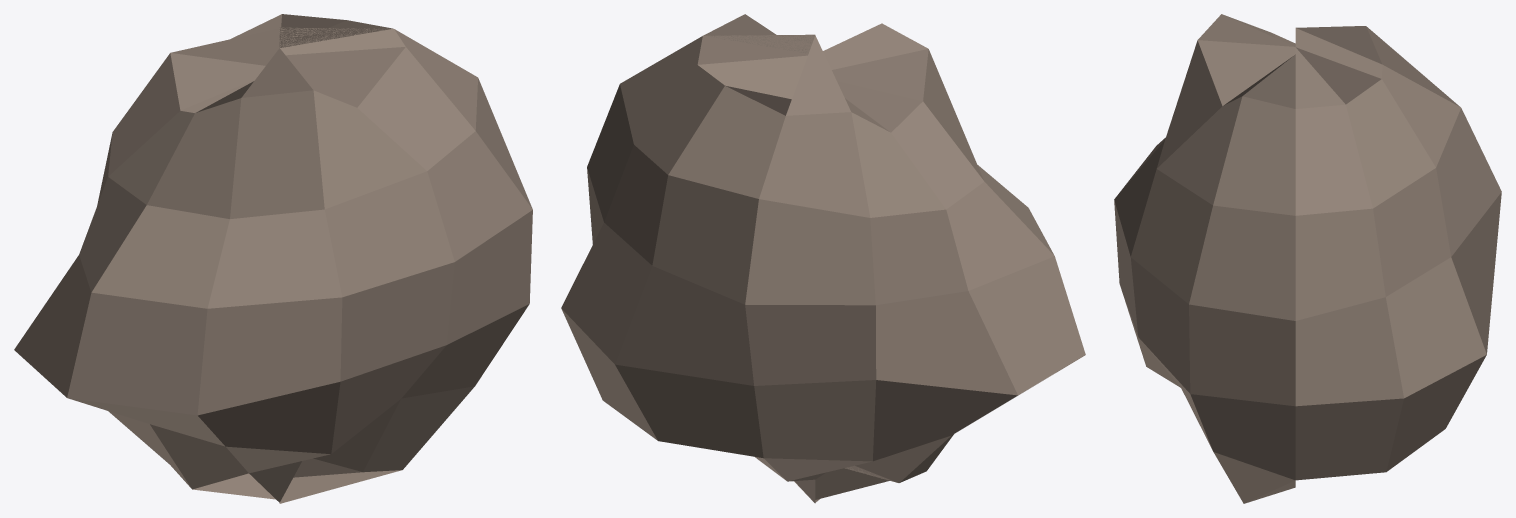
File: Rock00.glb
3 views of the same model, side by side, from view 1: azimuth 30°, elevation 25°; view 2: azimuth 150°, elevation 25°; view 3: azimuth 270°, elevation 25° (orthographic). The views are drawn at different scales.
Visible parts, largest first — view 1: Rock00Hull; view 2: Rock00Hull; view 3: Rock00Hull.
Boxes of the visible parts, box(x1,y1,x2,y2) form: Rock00Hull: box(14, 14, 532, 503); Rock00Hull: box(561, 14, 1085, 503); Rock00Hull: box(1114, 14, 1501, 503).
Size of the model in its own units: 2 by 1.91 by 1.46.
